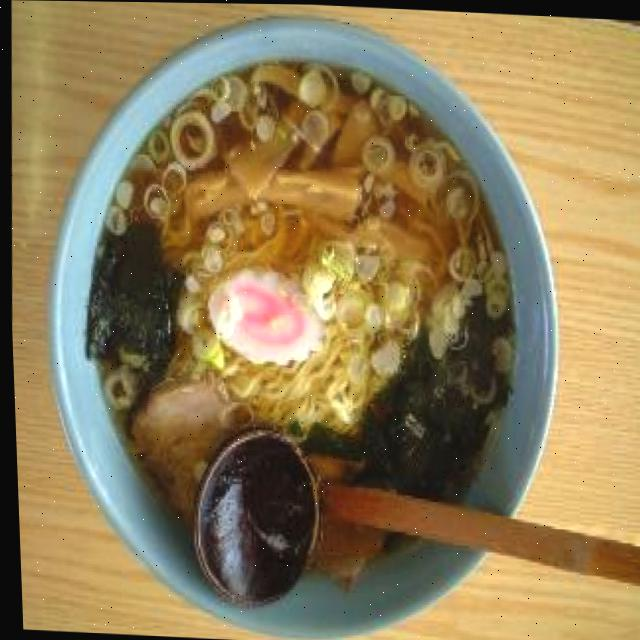面条主食: (5, 5, 575, 640)
